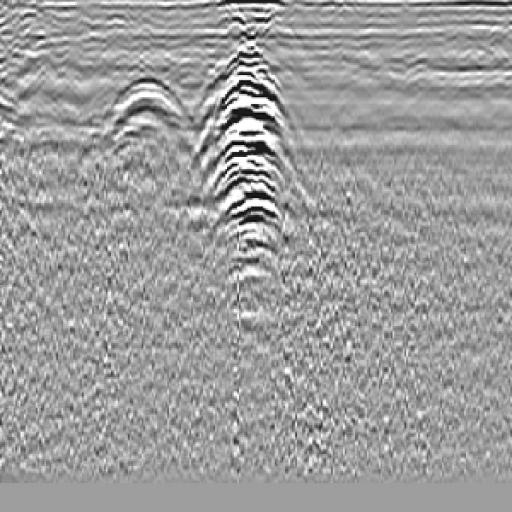metalic: (207, 29, 295, 285)
nonmetalic: (94, 71, 195, 172)
